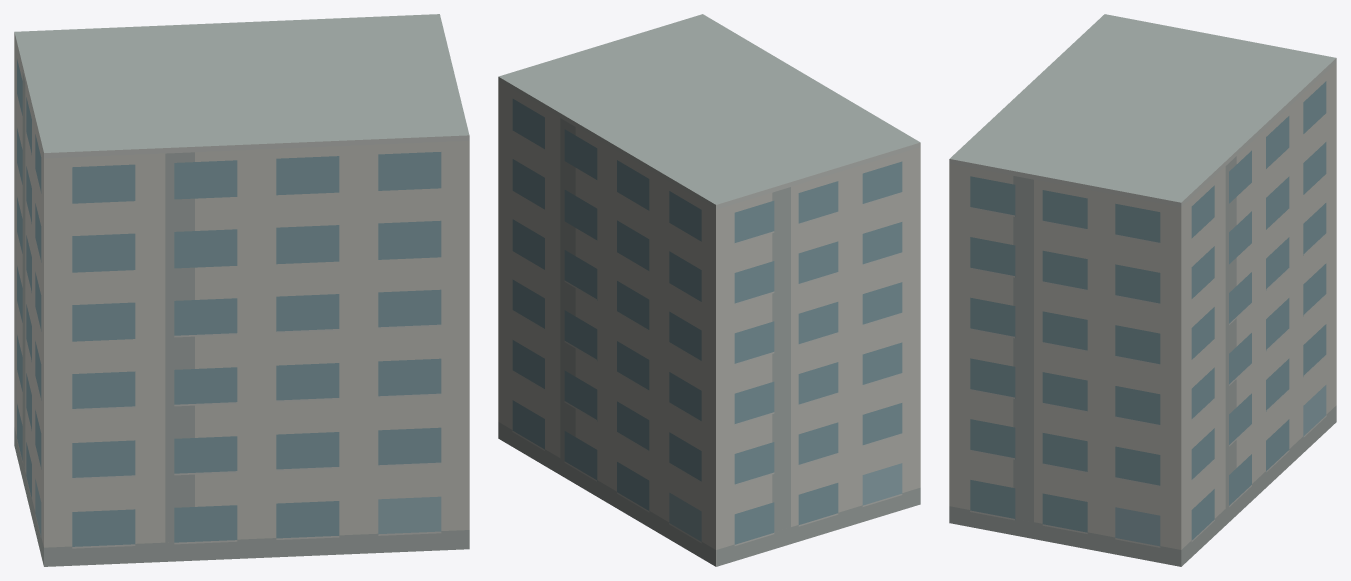
Rendered from survey-upis-32952638.glb.
3 renders of one model, left to right at view 1: azimuth 30°, elevation 25°; view 2: azimuth 150°, elevation 25°; view 3: azimuth 270°, elevation 25°, orthographic. The views are drawn at different scales.
Visible parts, largest first — view 1: survey-upis-32952638.tmp; view 2: survey-upis-32952638.tmp; view 3: survey-upis-32952638.tmp.
Part boxes in pixels (x1,y1,x2,y2): survey-upis-32952638.tmp: (14, 14, 469, 566); survey-upis-32952638.tmp: (498, 14, 920, 566); survey-upis-32952638.tmp: (949, 14, 1336, 566).
Size of the model in its own units: 20.34 by 18.3 by 17.64.
